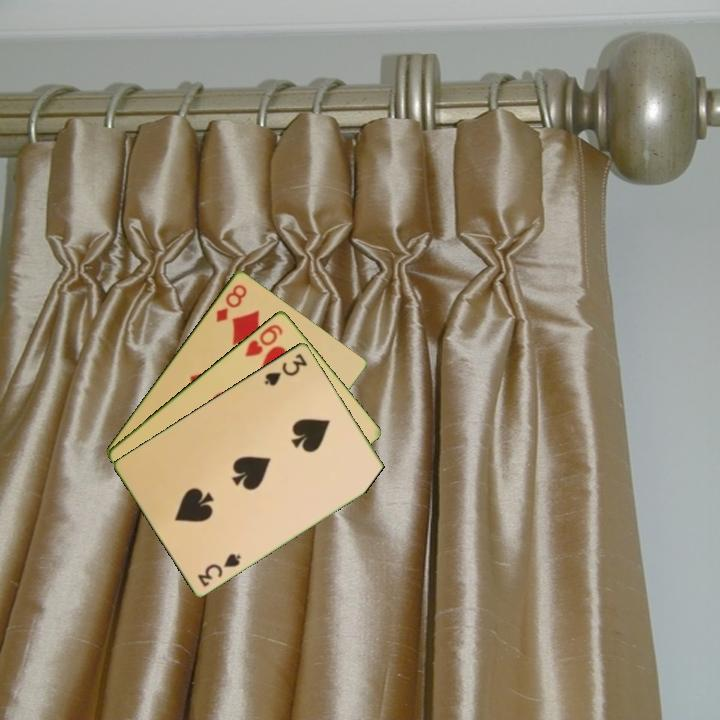3s: (194, 549, 244, 589), (261, 349, 310, 388)
6h: (241, 320, 286, 360)
8d: (212, 280, 250, 325)
